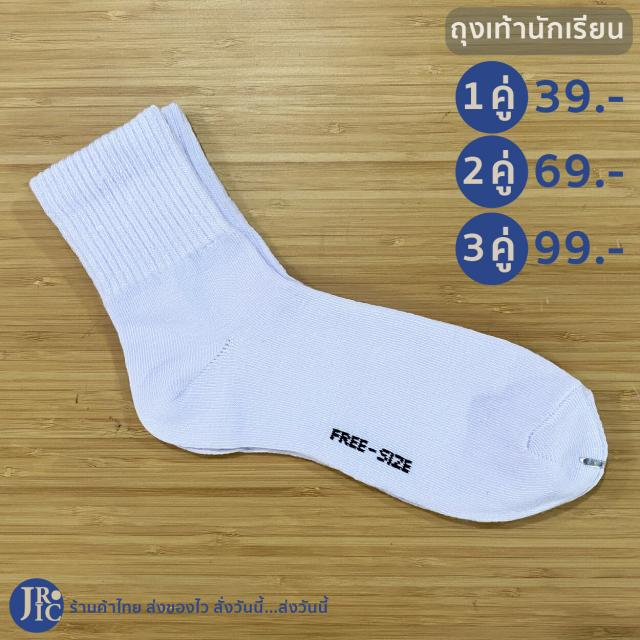sock: (28, 101, 608, 523)
